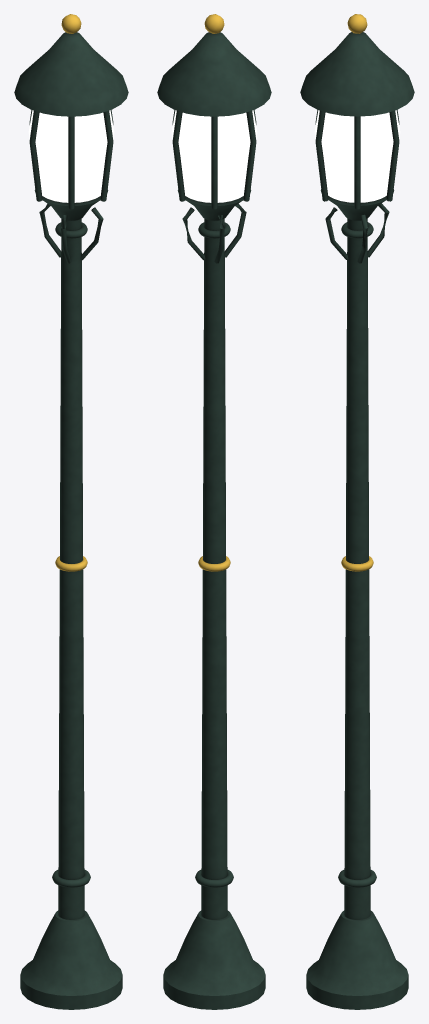
The model's file is StreetLamp.fbx.
The picture shows the model from 3 angles, left to right: view 1: azimuth 30°, elevation 25°; view 2: azimuth 150°, elevation 25°; view 3: azimuth 330°, elevation 25°; orthographic projection.
Parts seen in each view (by area): view 1: StreetLamp, LampGlass; view 2: StreetLamp, LampGlass; view 3: StreetLamp, LampGlass.
Boxes of the visible parts, bbox=[...] form: StreetLamp: bbox=[14, 14, 128, 1009]; LampGlass: bbox=[28, 110, 114, 202]; StreetLamp: bbox=[157, 14, 271, 1009]; LampGlass: bbox=[171, 110, 257, 202]; StreetLamp: bbox=[300, 14, 414, 1009]; LampGlass: bbox=[314, 110, 400, 202].
Size of the model in its own units: 1.12 by 10.52 by 1.12.
Materials: 2 (1 with a texture image).
